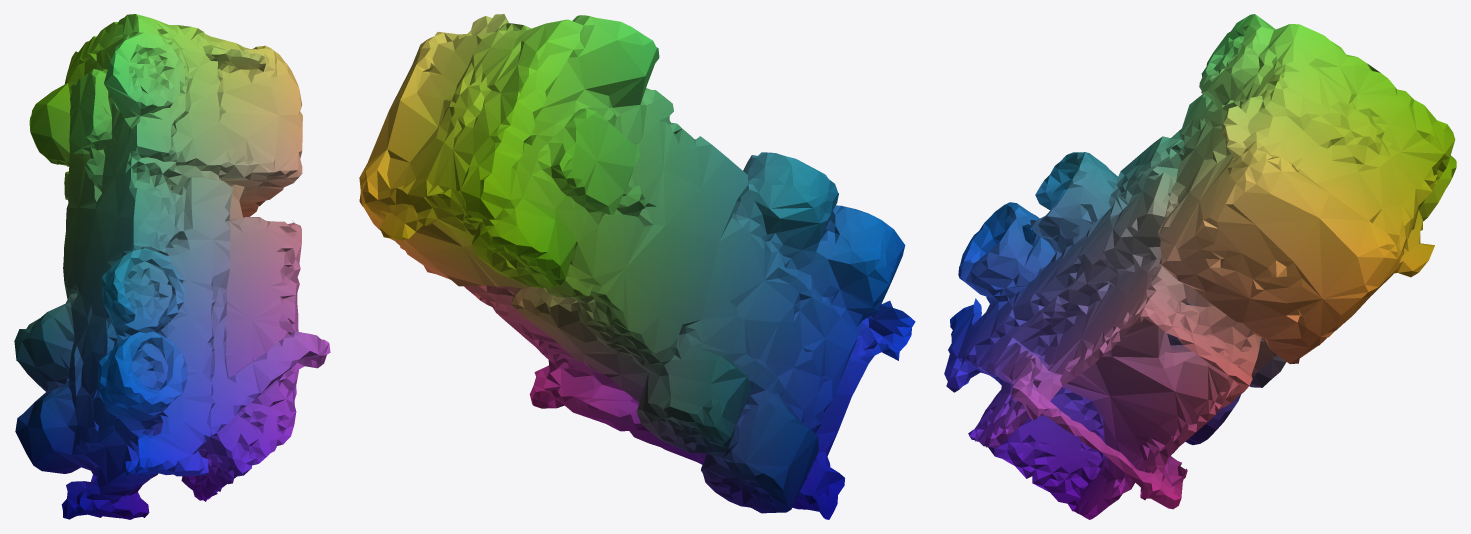
File: corr_cars_source.glb
3 views of the same model, side by side, from view 1: azimuth 30°, elevation 25°; view 2: azimuth 150°, elevation 25°; view 3: azimuth 270°, elevation 25° (orthographic). The views are drawn at different scales.
Parts seen in each view (by area): view 1: world; view 2: world; view 3: world.
Part boxes in pixels (bbox=[...]): world: bbox=[14, 14, 330, 519]; world: bbox=[359, 14, 915, 519]; world: bbox=[944, 14, 1456, 519].
Bounding box in the file's own units: 1.17 × 1.67 × 1.5.
